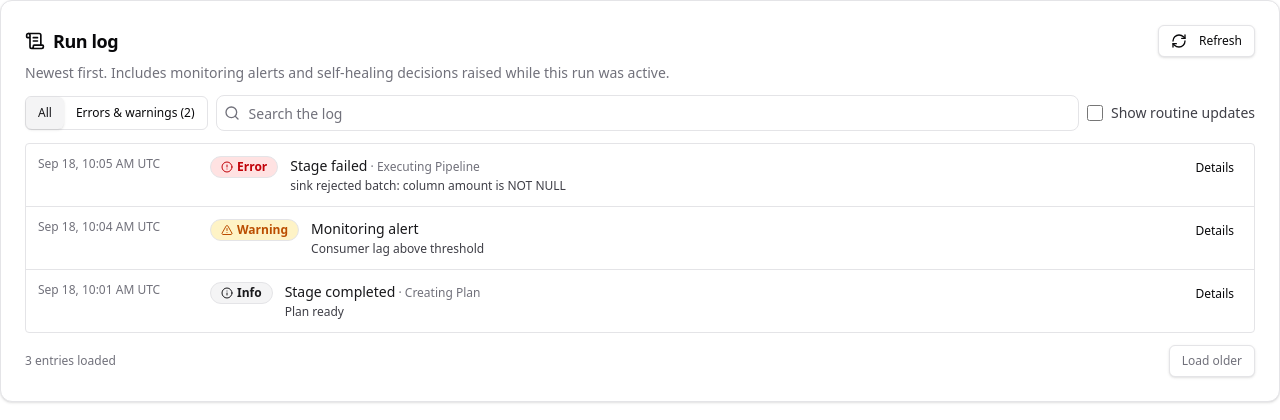
Test case: RunLogPanel › narrows to errors and warnings, and searches
Click the button "Errors & warnings (2)" at (135, 113), box [64, 97, 207, 129]
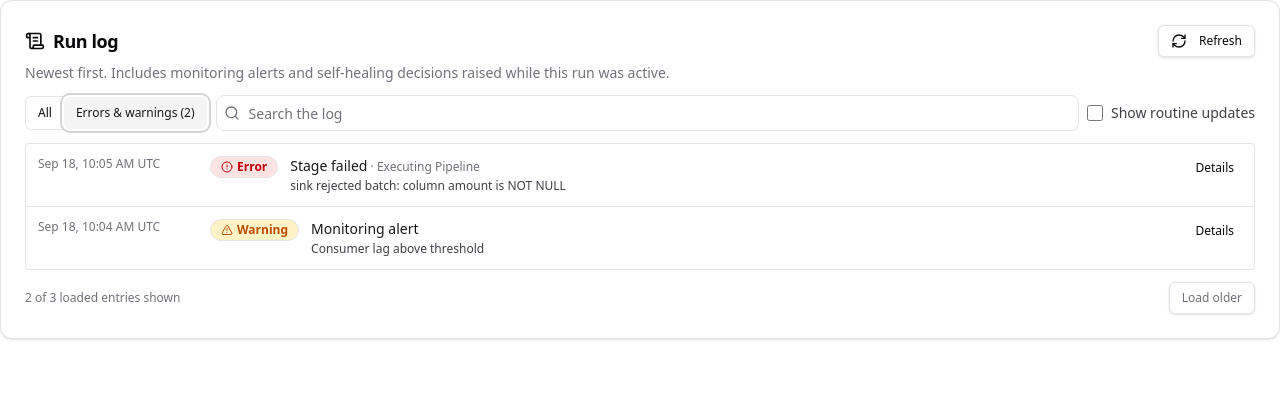
Result: the number of list items with test id "run-log-row" is 2 at [26, 144, 1254, 207]; [26, 207, 1254, 269]
Result: the text "Plan ready" is gone
Click the button "All" at (45, 113), box [26, 97, 64, 129]
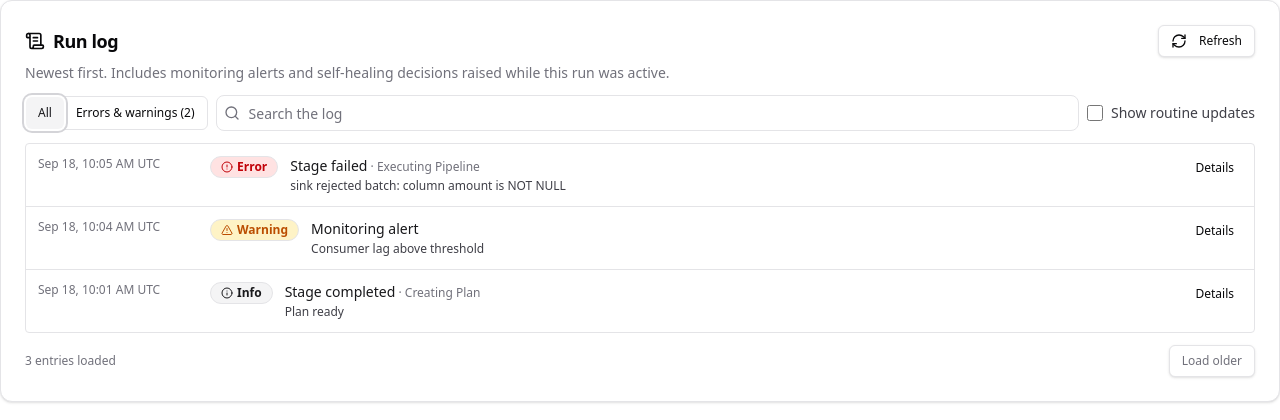
Type "lag" into the search field labelled "Search the log" at (647, 113), box [216, 95, 1079, 131]
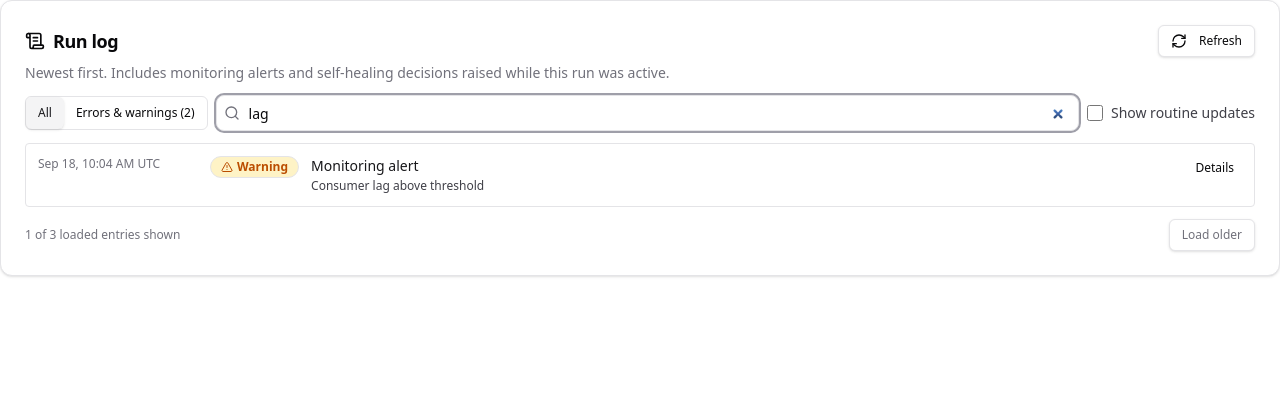
Expected: the text "Monitoring alert" is shown, [311, 156, 419, 175]
Result: the number of list items with test id "run-log-row" is 1 at [26, 144, 1254, 206]
Result: the text "1 of 3 loaded entries shown" is shown at [25, 227, 180, 243]
